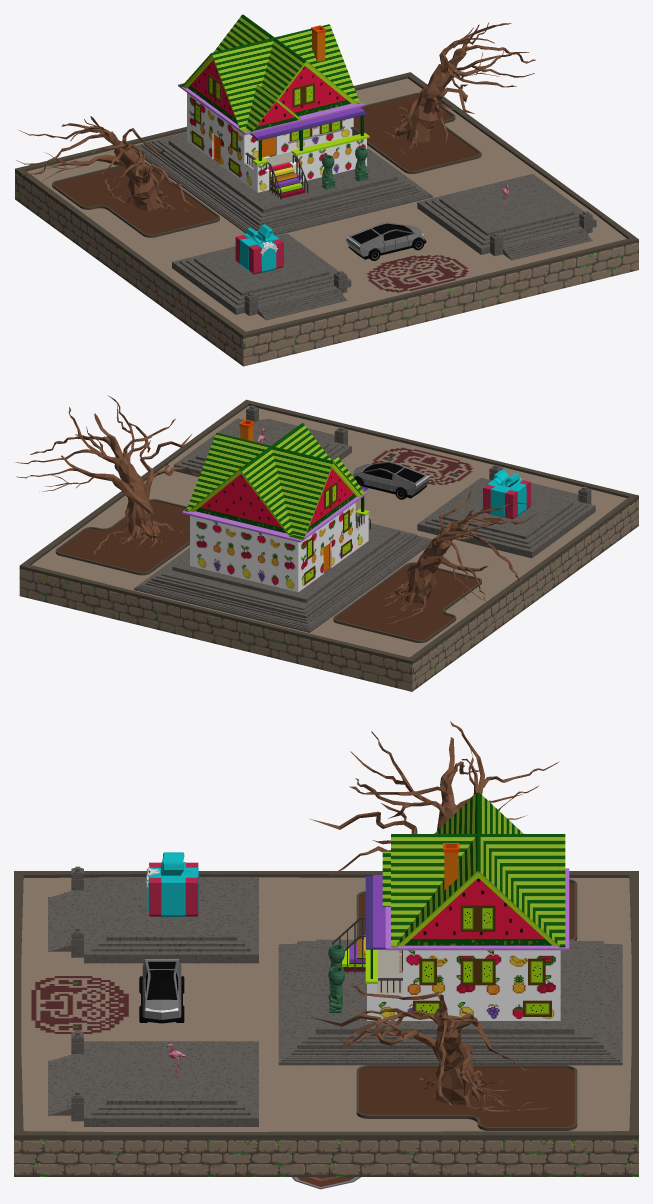
The picture shows the model from 3 angles, top to bottom: view 1: azimuth 30°, elevation 25°; view 2: azimuth 150°, elevation 25°; view 3: azimuth 270°, elevation 25°; orthographic projection. The views are drawn at different scales.
Parts seen in each view (by area): view 1: Cube.011, Cube.1063, VEHICLES_CYBERTRUCK, OBJRANDOM_GIANT_PRESENT; view 2: Cube.011, Cube.1063, VEHICLES_CYBERTRUCK, OBJRANDOM_GIANT_PRESENT; view 3: Cube.011, Cube.1063, OBJRANDOM_GIANT_PRESENT, VEHICLES_CYBERTRUCK.
Boxes of the visible parts, left/top/right/bottom form: Cube.011: left=15, top=22, right=638, bottom=366; Cube.1063: left=178, top=14, right=369, bottom=199; VEHICLES_CYBERTRUCK: left=346, top=222, right=426, bottom=260; OBJRANDOM_GIANT_PRESENT: left=235, top=224, right=283, bottom=274; Cube.011: left=15, top=395, right=638, bottom=691; Cube.1063: left=182, top=419, right=370, bottom=592; VEHICLES_CYBERTRUCK: left=352, top=461, right=429, bottom=499; OBJRANDOM_GIANT_PRESENT: left=483, top=469, right=530, bottom=519; Cube.011: left=14, top=721, right=638, bottom=1176; Cube.1063: left=332, top=792, right=569, bottom=1020; OBJRANDOM_GIANT_PRESENT: left=146, top=852, right=198, bottom=916; VEHICLES_CYBERTRUCK: left=139, top=959, right=184, bottom=1023.
Bounding box in the file's own units: 5099 × 2376 × 4000.
35 materials, 7 textured.
